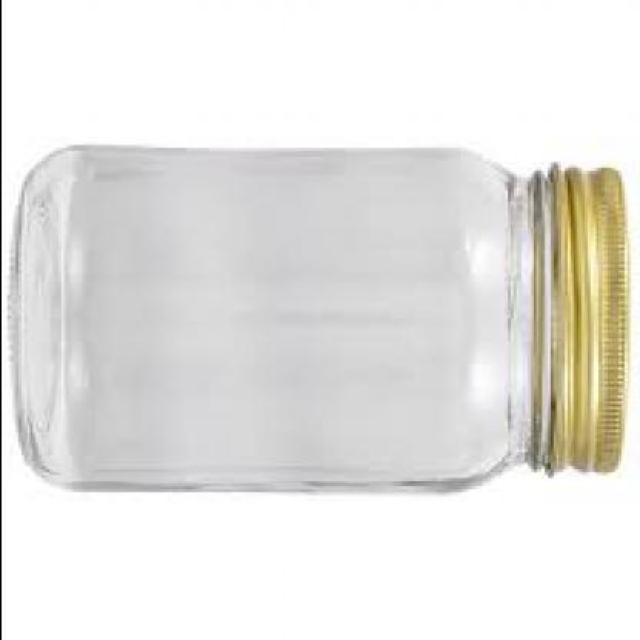GLASS: (12, 142, 554, 492)
METAL: (552, 165, 628, 469)
